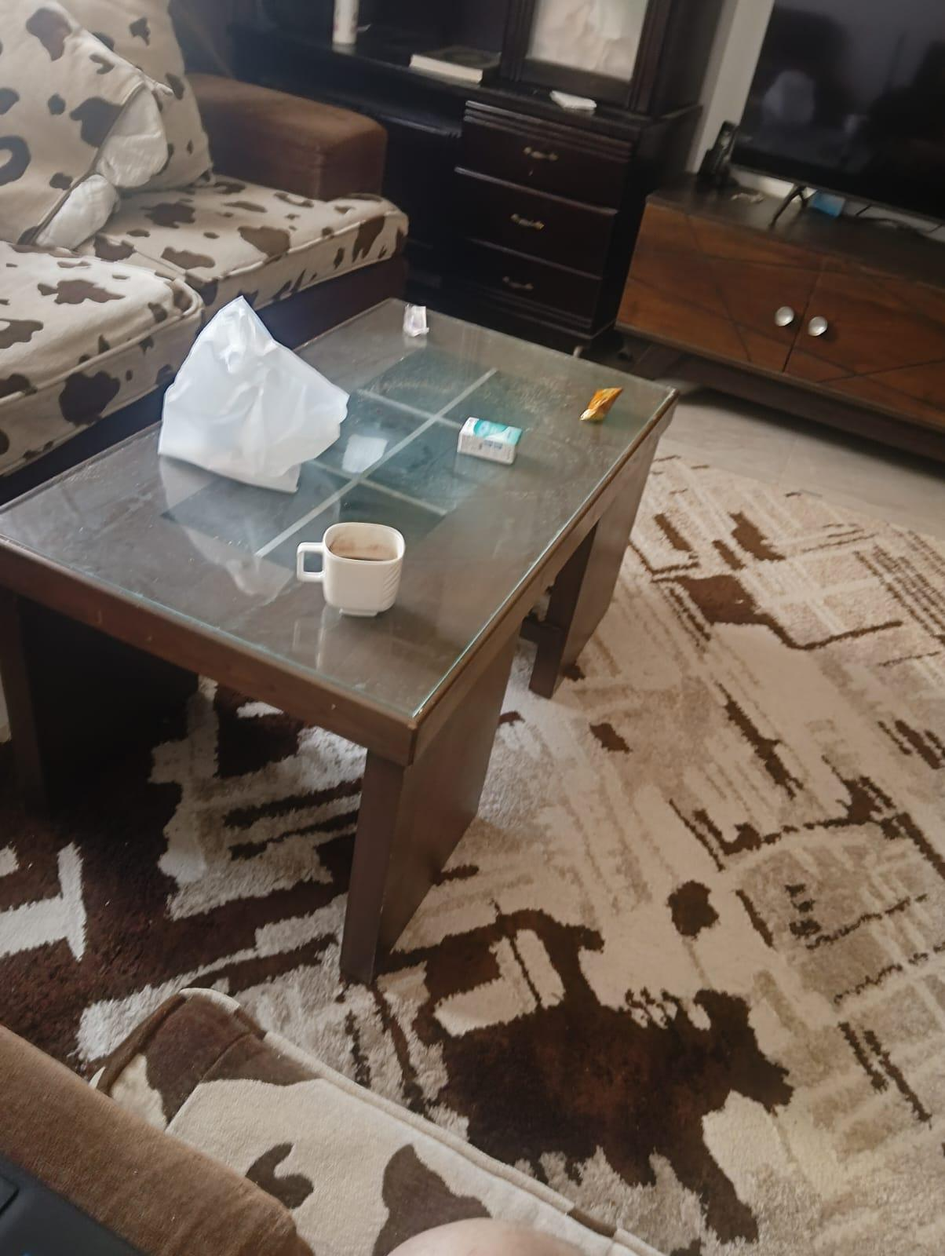cup: (297, 522, 404, 616)
